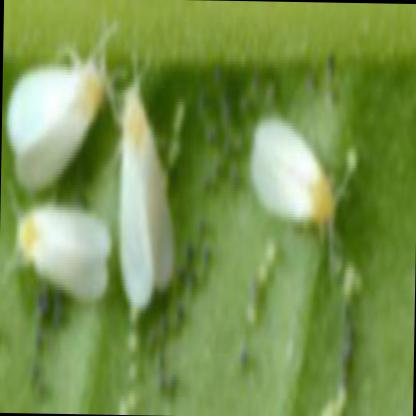whitefly: (7, 62, 110, 194), (118, 91, 176, 310), (252, 114, 337, 225)
